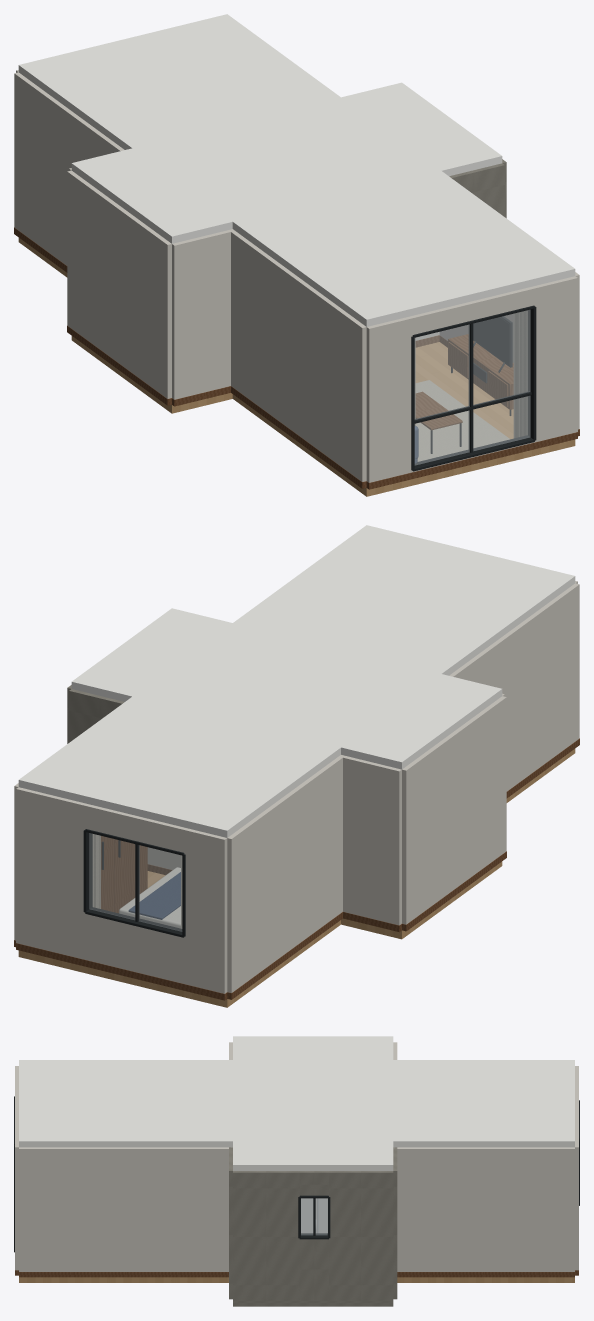
File: room.glb
The picture shows the model from 3 angles, top to bottom: view 1: azimuth 30°, elevation 25°; view 2: azimuth 150°, elevation 25°; view 3: azimuth 270°, elevation 25°; orthographic projection. The views are drawn at different scales.
Parts seen in each view (by area): view 1: Ceiling_living, Ceiling_bedroom, Wall_living_west_4, Wall_kitchen_west_15, Glass_L_WINDOW, Ceiling_kitchen, Ceiling_bathroom, Wall_bed_west_27, Wall_kitchen_south_16, Ceiling_hall, Wall_living_south_0, Wall_living_south_3 (+16 smaller); view 2: Ceiling_living, Ceiling_bedroom, Wall_bed_west_27, Wall_kitchen_west_15, Ceiling_kitchen, Wall_living_west_4, Ceiling_bathroom, Wall_bed_north_32, Wall_kitchen_north_17, Ceiling_hall, Wall_bed_north_29, Glass_B_WINDOW (+16 smaller); view 3: Wall_living_east_5, Wall_bed_east_28, Ceiling_living, Ceiling_bedroom, Ceiling_bathroom, Wall_bath_east_20, Wall_bath_east_23, Ceiling_kitchen, Ceiling_hall, Wall_bath_east_21, Floor_living, SM_Skirting_Wall_living_east_5 (+11 smaller).
Part boxes in pixels (left/top/right/bottom): Ceiling_living: left=232, top=171, right=575, bottom=326; Ceiling_bedroom: left=18, top=14, right=340, bottom=149; Wall_living_west_4: left=231, top=231, right=366, bottom=481; Wall_kitchen_west_15: left=67, top=170, right=171, bottom=398; Glass_L_WINDOW: left=415, top=310, right=530, bottom=465; Ceiling_kitchen: left=71, top=132, right=298, bottom=243; Ceiling_bathroom: left=275, top=82, right=502, bottom=186; Wall_bed_west_27: left=14, top=72, right=124, bottom=265; Wall_kitchen_south_16: left=172, top=229, right=234, bottom=399; Ceiling_hall: left=199, top=113, right=374, bottom=205; Wall_living_south_0: left=366, top=316, right=412, bottom=482; Wall_living_south_3: left=532, top=276, right=577, bottom=442; Ceiling_living: left=233, top=525, right=575, bottom=675; Ceiling_bedroom: left=18, top=696, right=340, bottom=837; Wall_bed_west_27: left=227, top=755, right=344, bottom=992; Wall_kitchen_west_15: left=402, top=696, right=506, bottom=924; Ceiling_kitchen: left=275, top=658, right=502, bottom=769; Wall_living_west_4: left=449, top=583, right=579, bottom=791; Ceiling_bathroom: left=71, top=608, right=298, bottom=712; Wall_bed_north_32: left=16, top=787, right=87, bottom=959; Wall_kitchen_north_17: left=340, top=755, right=401, bottom=925; Ceiling_hall: left=199, top=639, right=374, bottom=730; Wall_bed_north_29: left=184, top=828, right=227, bottom=993; Glass_B_WINDOW: left=89, top=833, right=181, bottom=931; Wall_living_east_5: left=19, top=1147, right=228, bottom=1271; Wall_bed_east_28: left=397, top=1147, right=574, bottom=1271; Ceiling_living: left=19, top=1060, right=232, bottom=1147; Ceiling_bedroom: left=393, top=1060, right=574, bottom=1147; Ceiling_bathroom: left=233, top=1115, right=393, bottom=1170; Wall_bath_east_20: left=233, top=1171, right=299, bottom=1300; Wall_bath_east_23: left=329, top=1171, right=393, bottom=1300; Ceiling_kitchen: left=233, top=1036, right=393, bottom=1085; Ceiling_hall: left=233, top=1086, right=393, bottom=1115; Wall_bath_east_21: left=299, top=1239, right=328, bottom=1300; Floor_living: left=19, top=1277, right=228, bottom=1282; SM_Skirting_Wall_living_east_5: left=19, top=1272, right=228, bottom=1277.
Bounding box in the file's own units: 5.87 × 2.92 × 10.59.
Materials: 15 (6 with a texture image).
